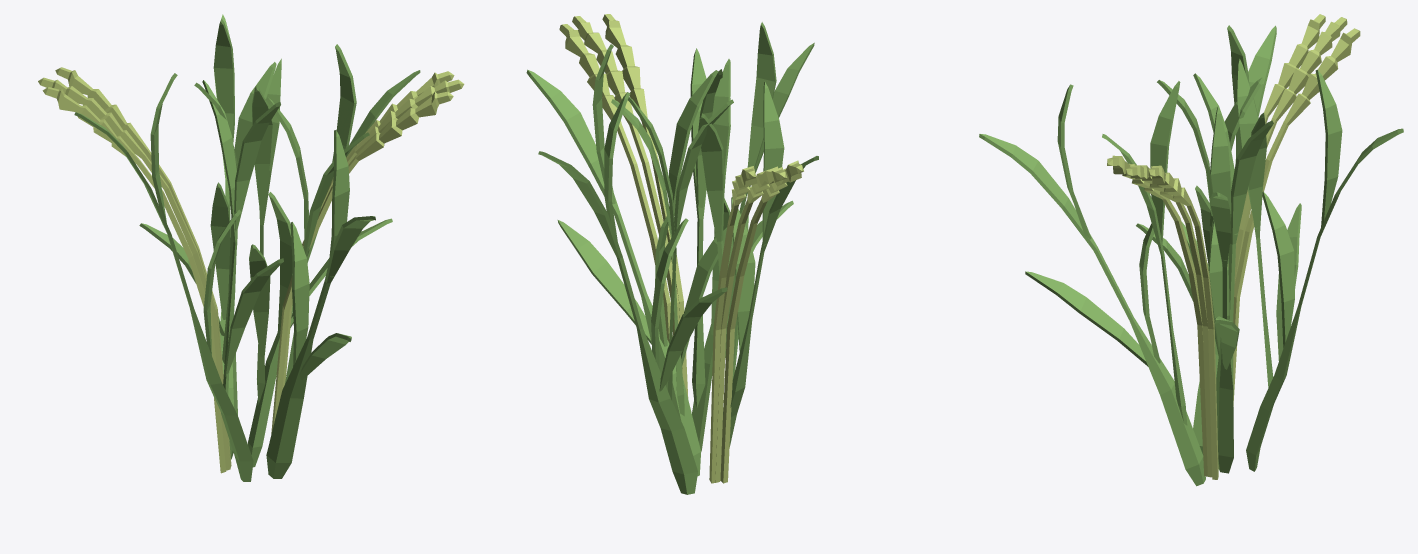
The model's file is quaternius_cc0-rice-1294.glb.
The picture shows the model from 3 angles, left to right: view 1: azimuth 30°, elevation 25°; view 2: azimuth 150°, elevation 25°; view 3: azimuth 270°, elevation 25°; orthographic projection.
Parts seen in each view (by area): view 1: Rice_4; view 2: Rice_4; view 3: Rice_4.
Part boxes in pixels (x1=…): Rice_4: x1=38, y1=14, x2=464, y2=481; Rice_4: x1=526, y1=14, x2=818, y2=494; Rice_4: x1=979, y1=14, x2=1403, y2=486.
Size of the model in its own units: 0.9856 by 0.9675 by 0.8808.
